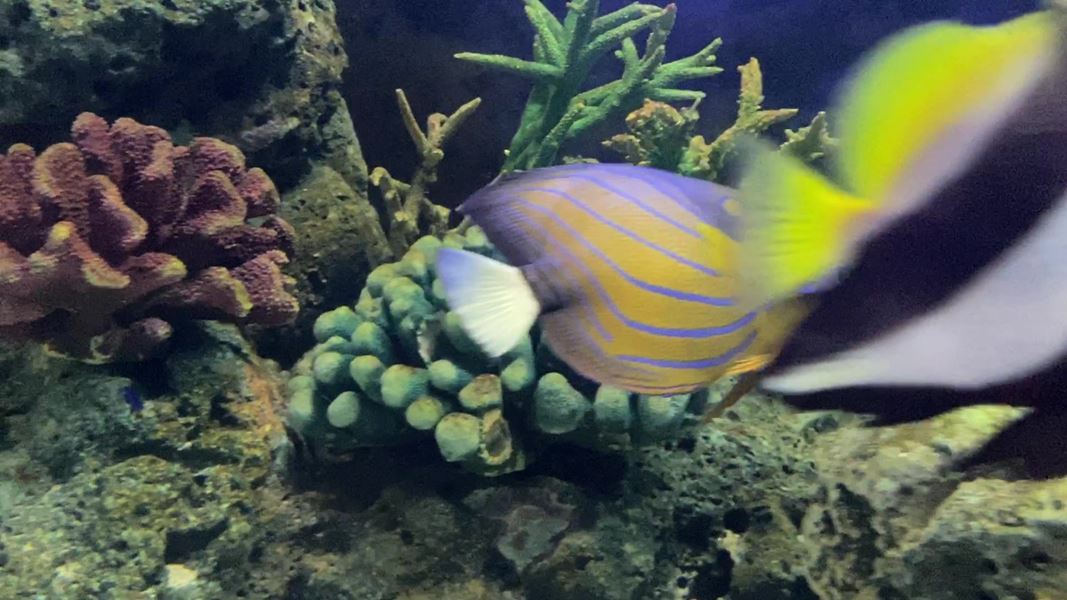Blue ring angelfish: (418, 161, 815, 424)
